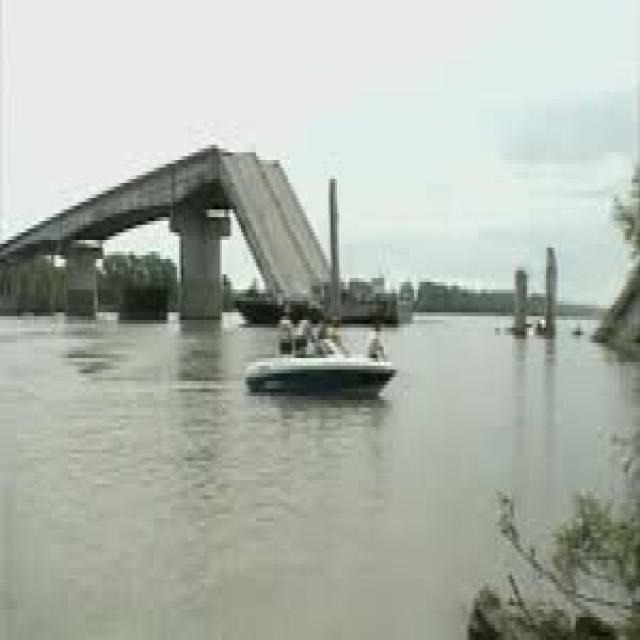bridge collapse: (193, 90, 640, 482)
